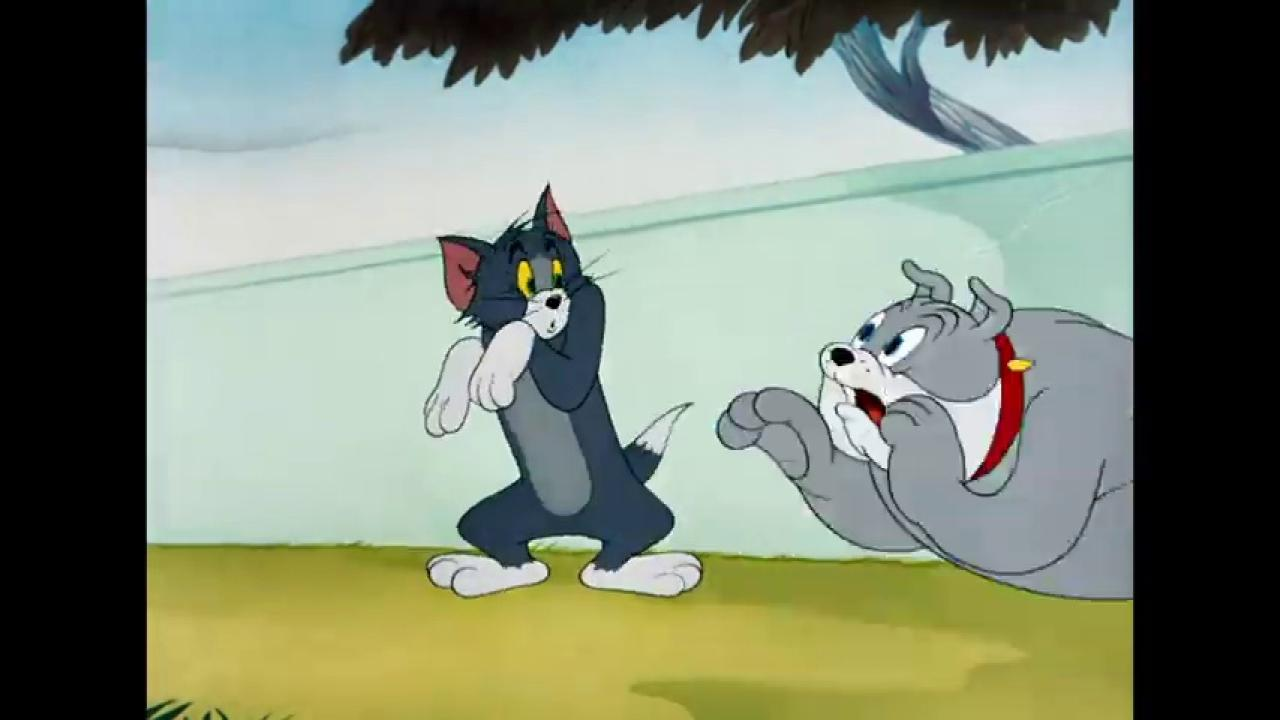Tom: (420, 180, 708, 599)
